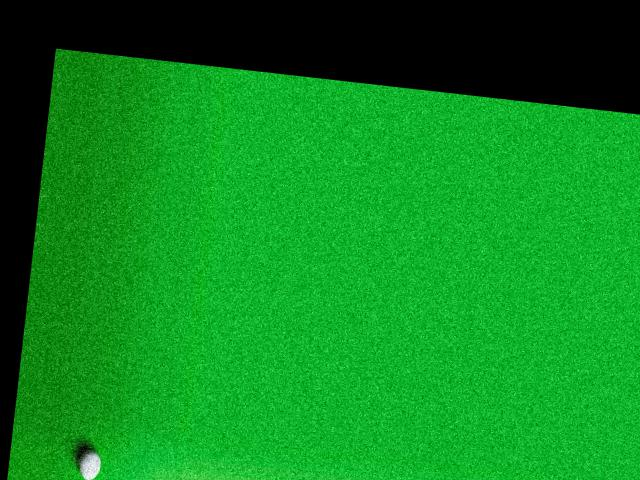egg: (77, 448, 102, 480)
